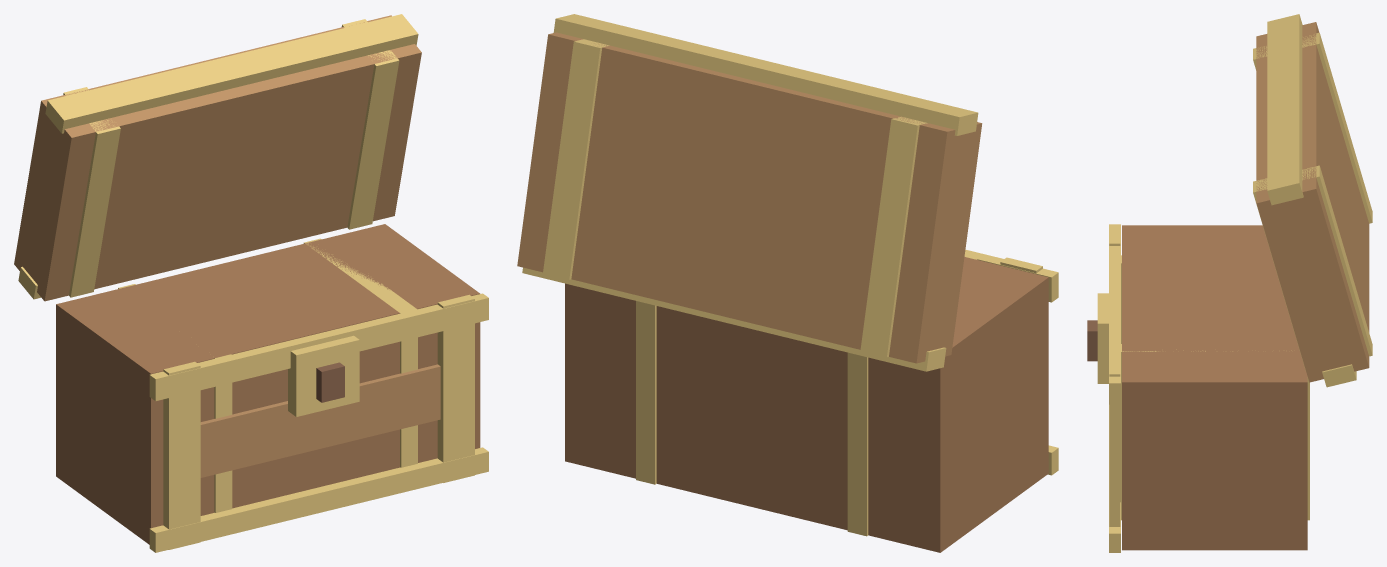
The model's file is chest_open_web.glb.
3 renders of one model, left to right at view 1: azimuth 30°, elevation 25°; view 2: azimuth 150°, elevation 25°; view 3: azimuth 270°, elevation 25°, orthographic. The views are drawn at different scales.
Parts seen in each view (by area): view 1: 00_wood_body, 10_lid_wood, 01_front_wood_strip, 11_lid_front_rim, 04_gold_front_lower, 05_gold_front_upper, 02_gold_front_corner, 03_gold_front_corner, 14_lid_corner_bands, 13_lid_corner_bands, 06_gold_front_lock_backplate, 09_body_side_bands (+2 smaller); view 2: 10_lid_wood, 00_wood_body, 11_lid_front_rim, 14_lid_corner_bands, 13_lid_corner_bands, 08_body_side_bands, 09_body_side_bands, 12_lid_back_rim, 05_gold_front_upper; view 3: 00_wood_body, 10_lid_wood, 11_lid_front_rim, 14_lid_corner_bands, 05_gold_front_upper, 13_lid_corner_bands, 03_gold_front_corner, 06_gold_front_lock_backplate, 09_body_side_bands, 12_lid_back_rim, 07_gold_front_lock_cutout, 04_gold_front_lower.
Part boxes in pixels (x1,y1,x2,y2): 00_wood_body: [56, 224, 480, 544]; 10_lid_wood: [14, 15, 421, 301]; 01_front_wood_strip: [200, 364, 440, 477]; 11_lid_front_rim: [45, 14, 418, 133]; 04_gold_front_lower: [149, 447, 488, 552]; 05_gold_front_upper: [149, 293, 488, 401]; 02_gold_front_corner: [163, 361, 200, 549]; 03_gold_front_corner: [437, 294, 474, 482]; 14_lid_corner_bands: [341, 19, 399, 229]; 13_lid_corner_bands: [63, 87, 120, 297]; 06_gold_front_lock_backplate: [288, 335, 359, 416]; 09_body_side_bands: [303, 238, 417, 467]; 10_lid_wood: [517, 32, 982, 363]; 00_wood_body: [565, 257, 1048, 552]; 11_lid_front_rim: [553, 14, 978, 135]; 14_lid_corner_bands: [543, 39, 609, 279]; 13_lid_corner_bands: [860, 116, 927, 357]; 08_body_side_bands: [847, 255, 977, 536]; 09_body_side_bands: [636, 301, 656, 484]; 12_lid_back_rim: [522, 267, 946, 371]; 05_gold_front_upper: [964, 249, 1058, 302]; 00_wood_body: [1122, 225, 1307, 550]; 10_lid_wood: [1256, 22, 1369, 382]; 11_lid_front_rim: [1267, 14, 1303, 205]; 14_lid_corner_bands: [1253, 165, 1372, 370]; 05_gold_front_upper: [1109, 224, 1120, 404]; 13_lid_corner_bands: [1253, 32, 1372, 223]; 03_gold_front_corner: [1109, 359, 1120, 526]; 06_gold_front_lock_backplate: [1097, 293, 1108, 383]; 09_body_side_bands: [1120, 344, 1309, 520]; 12_lid_back_rim: [1322, 364, 1356, 387]; 07_gold_front_lock_cutout: [1087, 320, 1097, 361]; 04_gold_front_lower: [1109, 405, 1120, 552].
Size of the model in its own units: 0.84 by 0.8705 by 0.5994.
